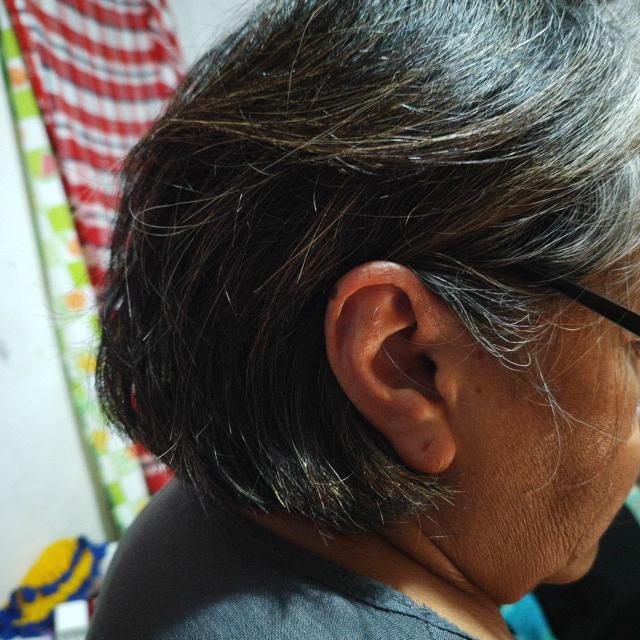ear: (328, 265, 458, 474)
